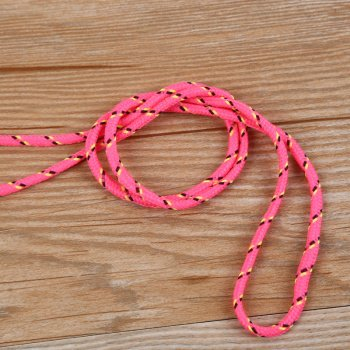9/可回收垃圾/绳子: (1, 81, 325, 339)
